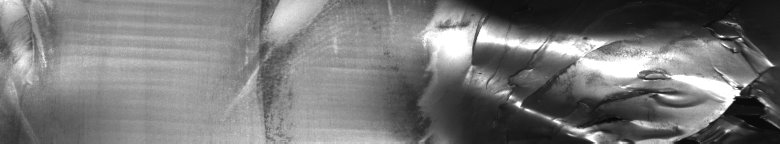ke: (418, 4, 776, 136)
